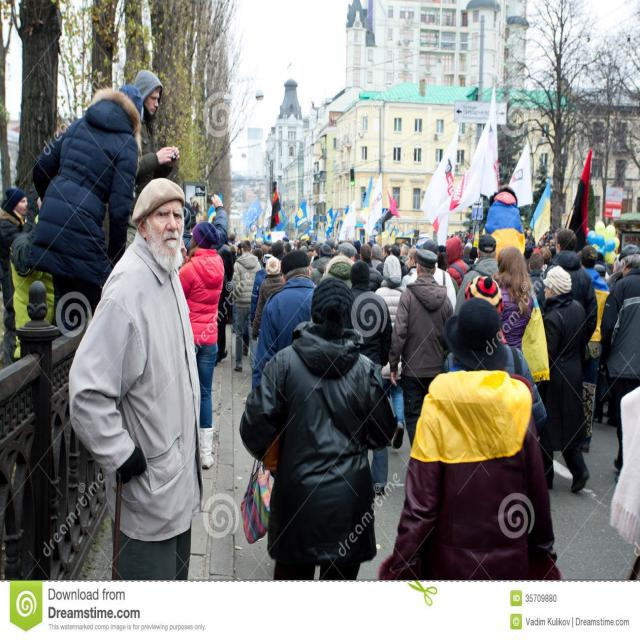body: (378, 300, 564, 640), (237, 273, 395, 639), (66, 174, 208, 580), (27, 83, 142, 335), (441, 274, 548, 435), (389, 247, 454, 452), (534, 264, 589, 494), (180, 220, 226, 470), (348, 260, 392, 497), (124, 67, 180, 253), (251, 249, 320, 394), (599, 243, 640, 472), (491, 246, 545, 385), (10, 200, 54, 366), (578, 244, 612, 454), (371, 254, 407, 452), (542, 227, 600, 349), (608, 377, 640, 581), (0, 186, 29, 368), (229, 240, 263, 374), (454, 234, 502, 318), (406, 239, 458, 315), (481, 185, 526, 262), (251, 256, 285, 343), (216, 227, 236, 364), (445, 236, 470, 290), (528, 250, 547, 314), (357, 244, 380, 294), (309, 242, 333, 286), (399, 248, 422, 290), (522, 226, 556, 253), (314, 242, 333, 287), (180, 205, 194, 258), (605, 253, 624, 288), (185, 190, 206, 215), (376, 244, 392, 276), (336, 241, 358, 263), (370, 243, 384, 270), (291, 236, 315, 250), (467, 246, 479, 271), (437, 244, 448, 270), (271, 242, 285, 262), (462, 241, 474, 264), (593, 263, 607, 281), (450, 228, 473, 238), (399, 242, 409, 260), (276, 234, 290, 244), (604, 260, 612, 277), (596, 249, 604, 265), (282, 243, 292, 255), (228, 231, 236, 244), (263, 238, 274, 246), (366, 238, 376, 246), (255, 240, 263, 249), (576, 249, 582, 261)
